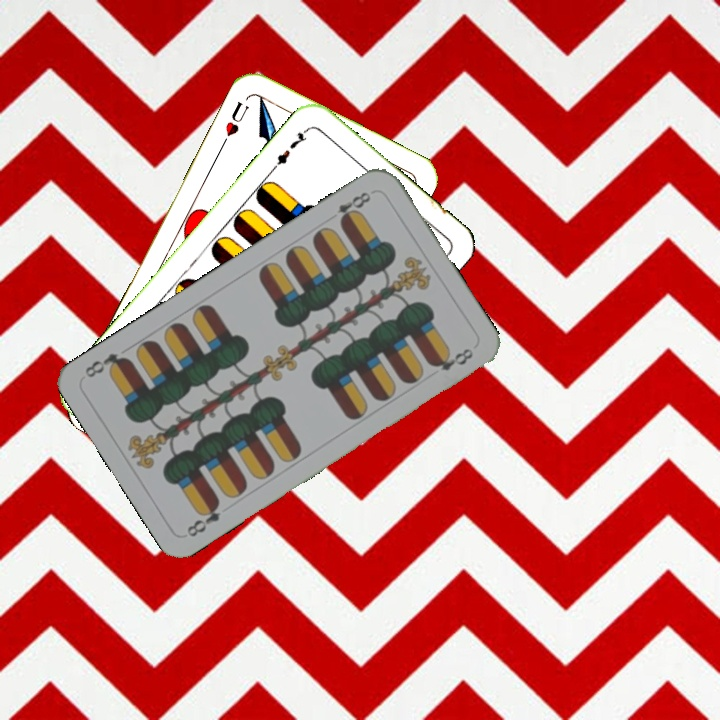E7: (268, 124, 312, 173)
E8: (182, 496, 223, 540), (334, 187, 374, 228)
HU: (217, 96, 252, 148)
